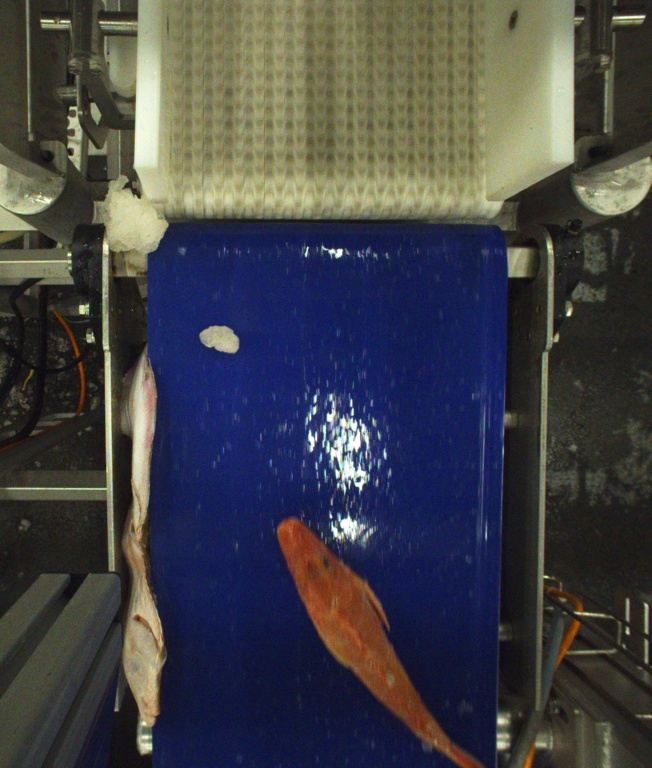GUU: (274, 516, 489, 768)
